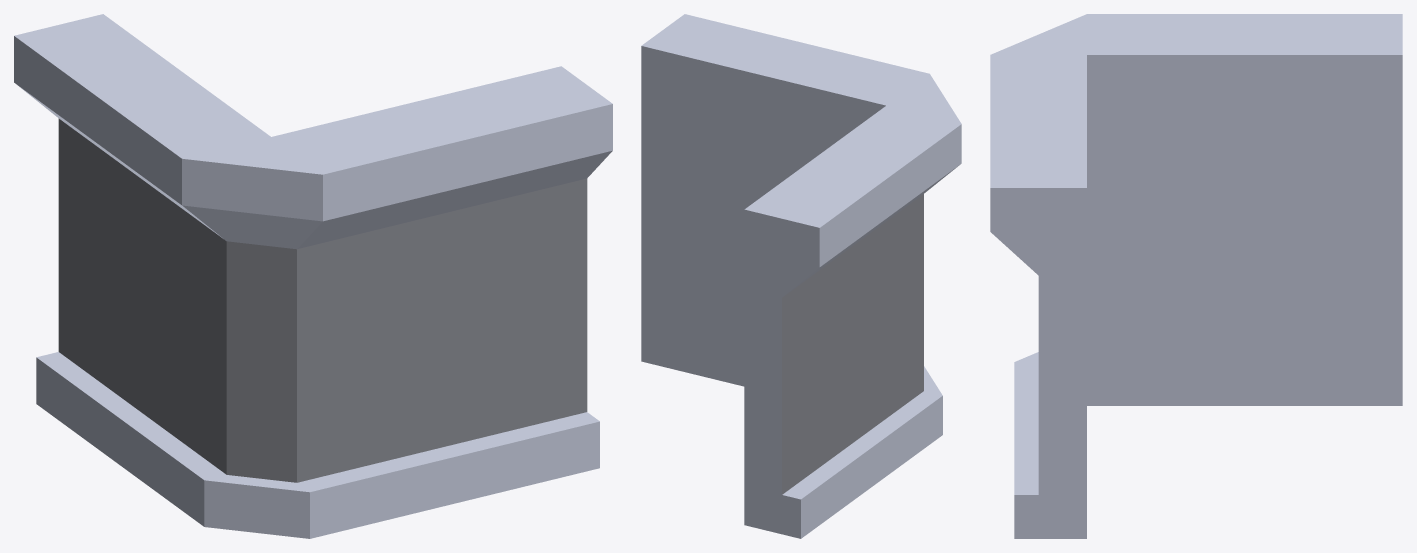
3 renders of one model, left to right at view 1: azimuth 30°, elevation 25°; view 2: azimuth 150°, elevation 25°; view 3: azimuth 270°, elevation 25°, orthographic. The views are drawn at different scales.
Visible parts, largest first — view 1: object_002; view 2: object_002; view 3: object_002.
Boxes of the visible parts, x1,y1,x2,y2 form: object_002: (14, 14, 612, 538); object_002: (641, 14, 961, 538); object_002: (990, 14, 1402, 538).
Size of the model in its own units: 10.63 by 10 by 10.65.
